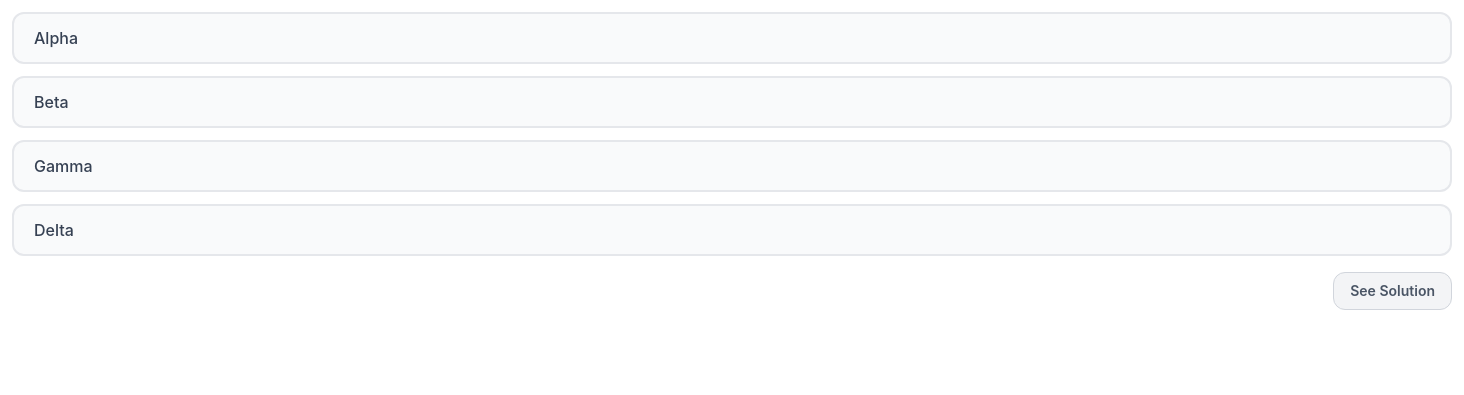
Test: McqQuestion › shows the results CTA on the last question and marks incorrect answers
The image size is (1464, 395).
Click the button "Alpha": (56,38) x1=12 y1=12 x2=1452 y2=64
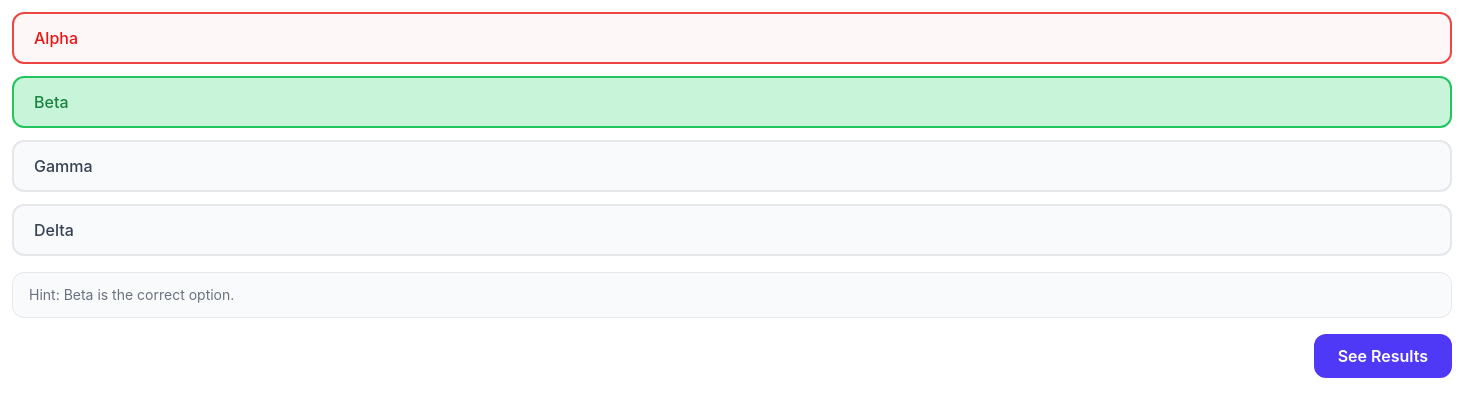
Check: the button "See Results" is shown, box x1=1314 y1=334 x2=1452 y2=378
